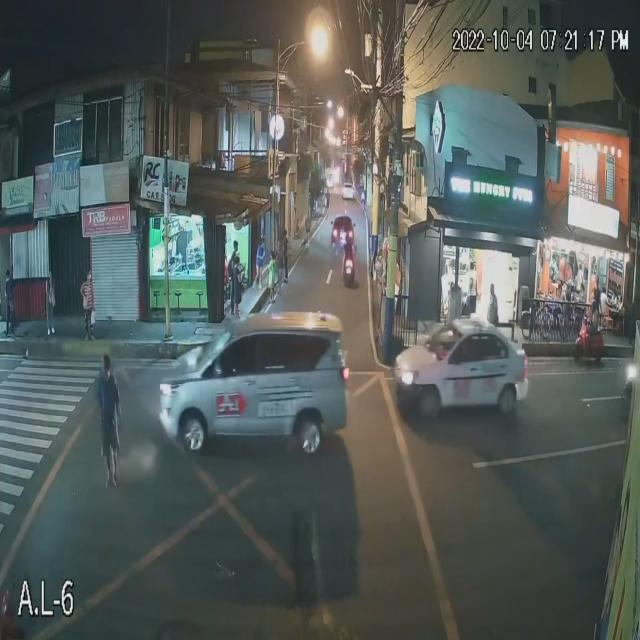Full-Faced: (343, 230, 354, 247), (588, 299, 598, 313)
